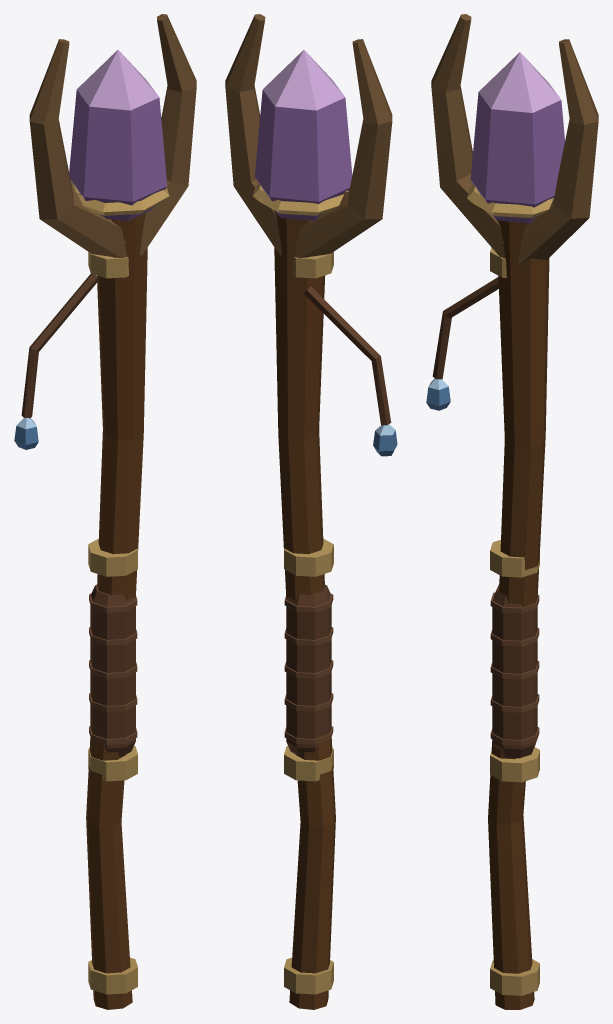
The model's file is weapon_staff.glb.
The picture shows the model from 3 angles, left to right: view 1: azimuth 30°, elevation 25°; view 2: azimuth 150°, elevation 25°; view 3: azimuth 330°, elevation 25°; orthographic projection.
Visible parts, largest first — view 1: weapon_staff; view 2: weapon_staff; view 3: weapon_staff.
Boxes of the visible parts, x1,y1,x2,y2 form: weapon_staff: (14,14,196,1009); weapon_staff: (225,14,397,1009); weapon_staff: (426,14,598,1009).
Size of the model in its own units: 0.431 by 2.29 by 0.23.
